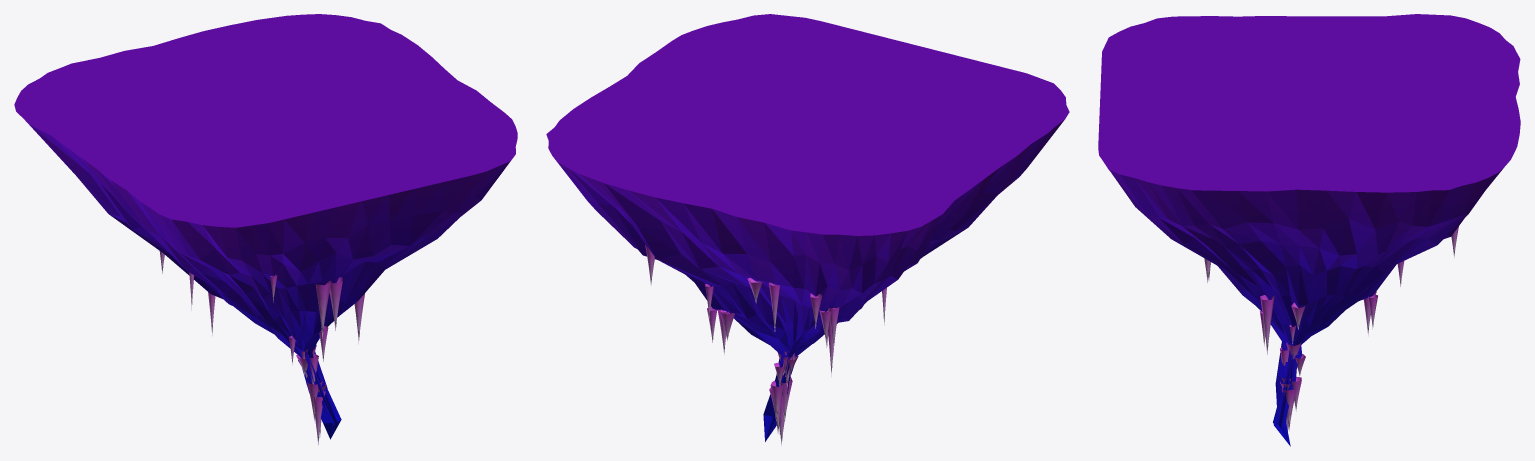
Rendered from Kit_Island_Underside_16.fbx.
3 renders of one model, left to right at view 1: azimuth 30°, elevation 25°; view 2: azimuth 150°, elevation 25°; view 3: azimuth 270°, elevation 25°, orthographic. The views are drawn at different scales.
Visible parts, largest first — view 1: Island_Underside_16; view 2: Island_Underside_16; view 3: Island_Underside_16.
Part boxes in pixels (bbox=[...]): Island_Underside_16: bbox=[14, 14, 517, 445]; Island_Underside_16: bbox=[546, 14, 1069, 445]; Island_Underside_16: bbox=[1098, 14, 1520, 446].
Size of the model in its own units: 14.14 by 11.89 by 14.13.
